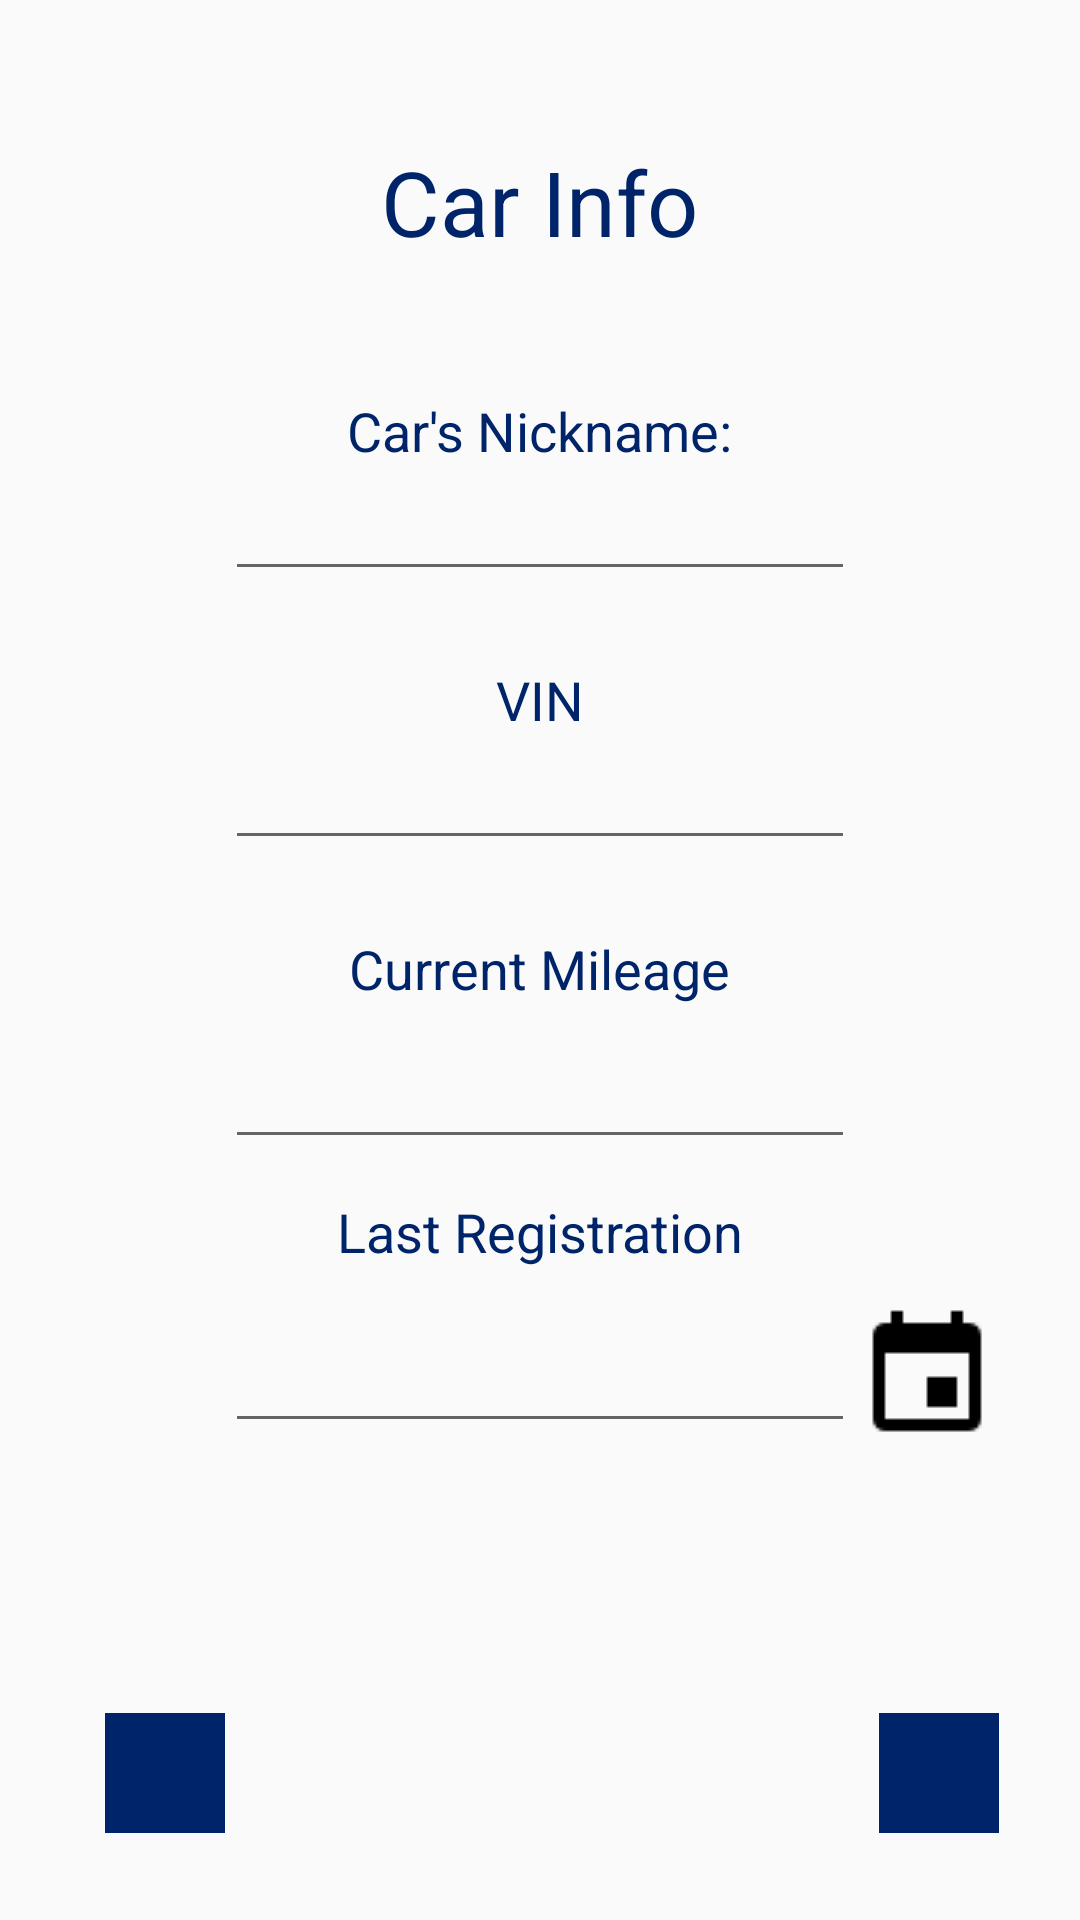

Icon click points for this 1080 × 1920 phone screenshot, format (x=x, y=y):
calendar: (x=927, y=1371)
